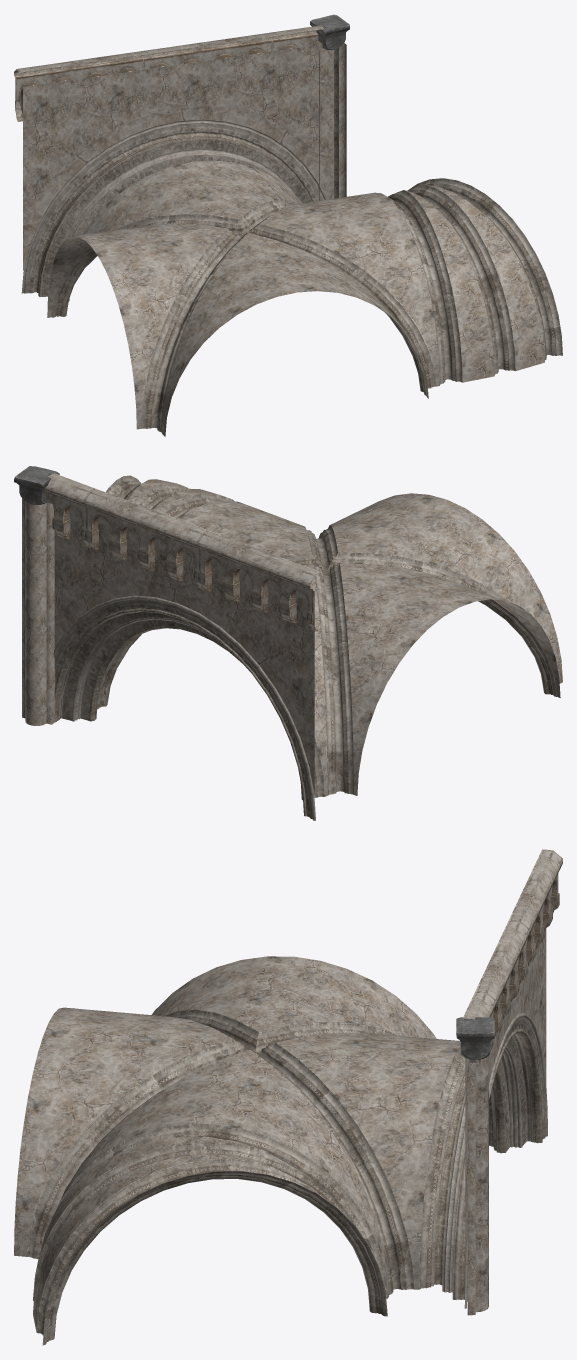
3 views of the same model, one above another, from view 1: azimuth 30°, elevation 25°; view 2: azimuth 150°, elevation 25°; view 3: azimuth 270°, elevation 25° (orthographic). The views are drawn at different scales.
Visible parts, largest first — view 1: SM_ArcadeCeiling01_LOD0; view 2: SM_ArcadeCeiling01_LOD0; view 3: SM_ArcadeCeiling01_LOD0.
Part boxes in pixels (x1=…): SM_ArcadeCeiling01_LOD0: x1=14, y1=14, x2=562, y2=436; SM_ArcadeCeiling01_LOD0: x1=14, y1=466, x2=562, y2=820; SM_ArcadeCeiling01_LOD0: x1=14, y1=849, x2=562, y2=1345.
Bounding box in the file's own units: 11.42 × 6.2 × 10.86.
Materials: 4 (4 with a texture image).
